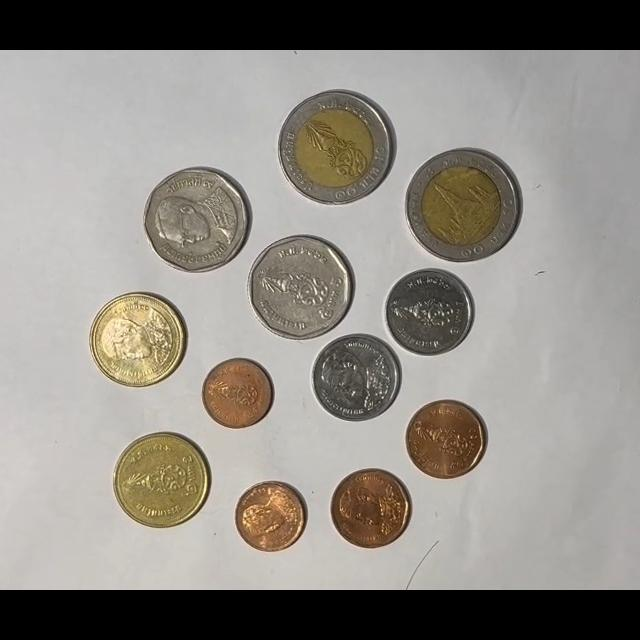1-baht: (311, 333, 401, 423), (384, 268, 474, 356)
10-baht: (278, 89, 396, 207), (405, 147, 521, 262)
2-baht: (113, 432, 211, 529), (89, 292, 185, 389)
25-satang: (234, 481, 307, 553), (201, 358, 273, 429)
5-baht: (144, 167, 251, 273), (248, 235, 354, 341)
50-satang: (330, 469, 411, 550), (405, 399, 487, 479)
